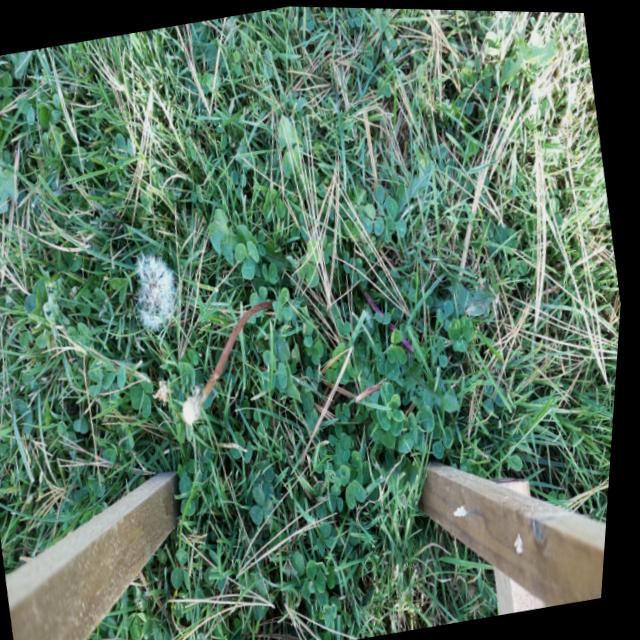base: (264, 282, 291, 322)
flower: (179, 381, 222, 438)
